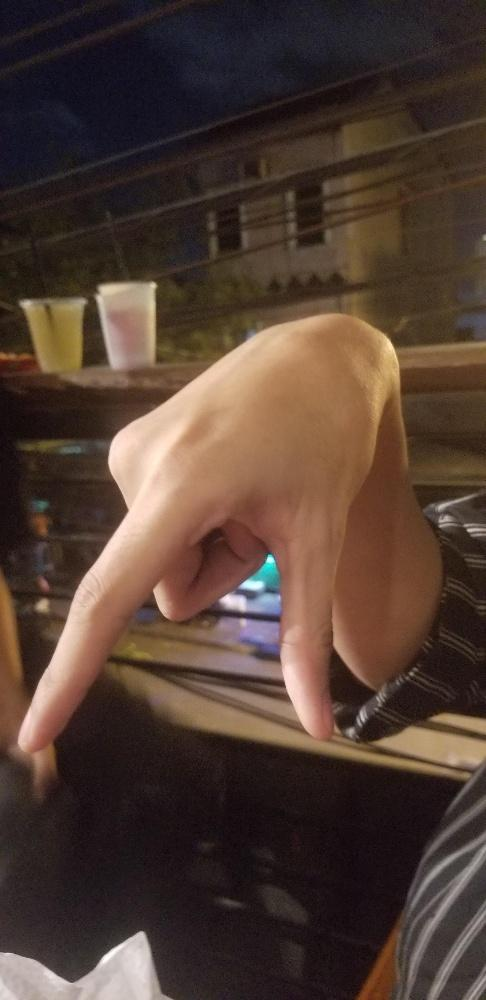q: (14, 310, 395, 758)
